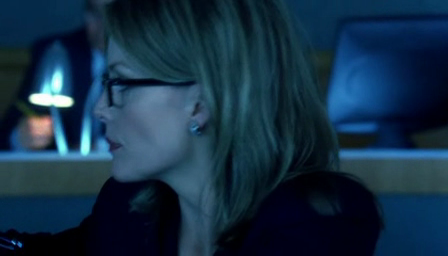cu: (1, 1, 448, 256)
face: (91, 43, 160, 182)
person: (1, 1, 387, 256)
